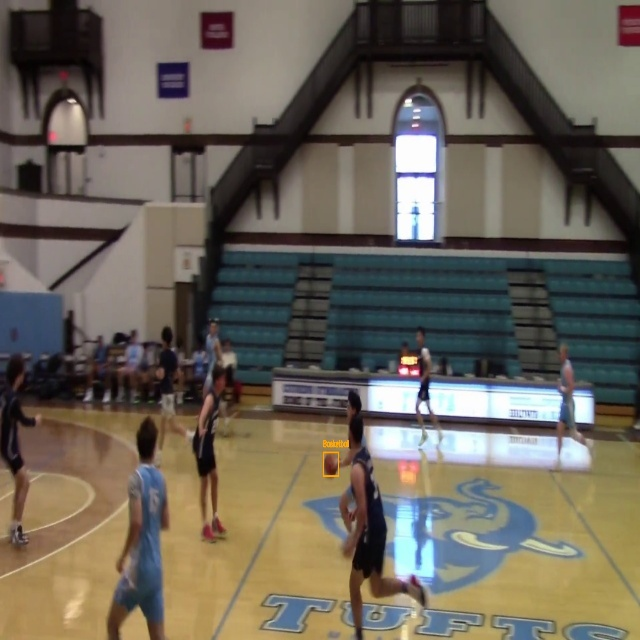Basketball: (323, 453, 339, 476)
